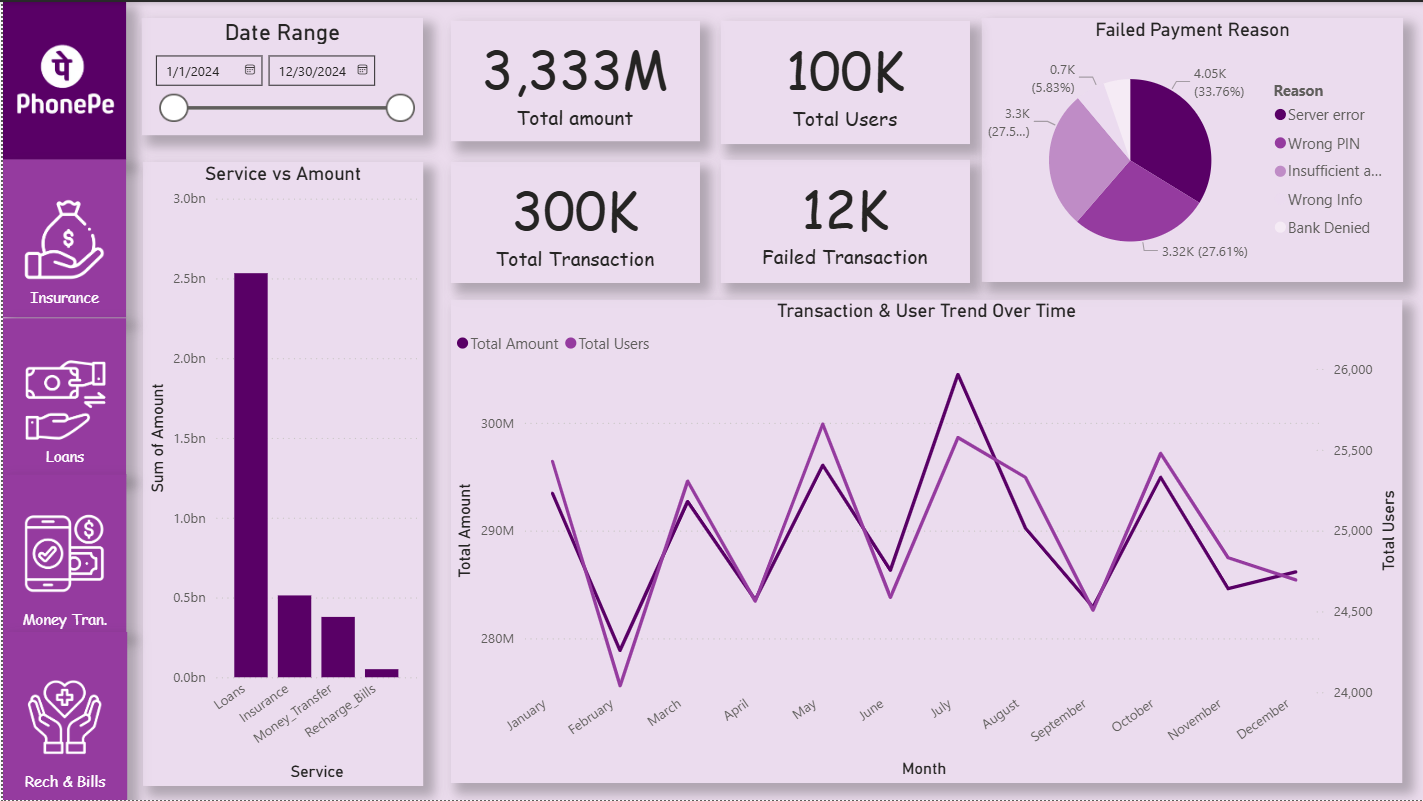

This screenshot's page, from the dashboard's own definition file:
{"tool":"powerbi","page":{"name":"Home Page","canvas":[1280,720],"ordinal":0},"visuals":[{"type":"shape","box":[0,0,111,142.4],"z":0},{"type":"shape","box":[0,142.4,111,142.4],"z":1000},{"type":"shape","box":[0,284.7,111,142.4],"z":2000},{"type":"shape","box":[0,426.1,111.6,142],"z":3000},{"type":"shape","box":[0,567.6,112,152.8],"z":4000},{"type":"image","box":[0,23.2,111.6,97.1],"z":5000},{"type":"image","box":[1.2,168.9,111,88.1],"z":6000},{"type":"image","box":[0,600.8,111,88.1],"z":7000},{"type":"image","box":[1.2,314.9,111,89.3],"z":8000},{"type":"image","box":[0,452.4,111,90.5],"z":9000},{"type":"textbox","box":[0,252.8,111.1,31.5],"z":10000},{"type":"textbox","box":[0,395.4,112,31.5],"z":11000},{"type":"textbox","box":[0,542.1,111.6,36.1],"z":12000},{"type":"textbox","box":[0,688.6,112,31.5],"z":13000},{"type":"slicer","title":"Date Range","fields":{"Values":["All_Transactions.Date"]},"box":[124.9,15.1,253.9,105.7],"z":14000},{"type":"card","title":"Date Range","fields":{"Values":["Sum(All_Transactions.Amount)"]},"box":[403.4,17,224.5,108.8],"z":15000},{"type":"card","title":"Date Range","fields":{"Values":["Count(All_Transactions.Transaction_ID)"]},"box":[403.4,144.2,224.5,108.8],"z":16000},{"type":"card","title":"Date Range","fields":{"Values":["Count(All_Transactions.User_ID)"]},"box":[646.9,17,224.5,110.9],"z":17000},{"type":"card","title":"Date Range","fields":{"Values":["Count(All_Transactions.Transaction_ID)"]},"box":[646.9,141.5,224.5,110.9],"z":18000},{"type":"pieChart","title":"Failed Payment Reason ","fields":{"Category":["All_Transactions.Reason"],"Y":["CountNonNull(All_Transactions.Reason)"]},"box":[882.3,15.1,380.1,237.4],"z":19000},{"type":"lineChart","title":"Transaction & User Trend Over Time","fields":{"Category":["All_Transactions.Date.Variation.Date Hierarchy.Month"],"Y2":["CountNonNull(All_Transactions.User_ID)"],"Y":["Sum(All_Transactions.Amount)"]},"box":[403.5,267.8,858.5,435.9],"z":20000},{"type":"columnChart","title":"Service vs Amount","fields":{"Y":["Sum(All_Transactions.Amount)"],"Category":["All_Transactions.Service"]},"box":[126.2,144.1,252.5,562.6],"z":21000},{"type":"actionButton","box":[0,0,111.1,140],"z":22000},{"type":"actionButton","box":[0,284,111.1,140],"z":23000},{"type":"actionButton","box":[0,428.3,111.6,139.8],"z":24000},{"type":"actionButton","box":[0,564,111.1,156.4],"z":25000},{"type":"actionButton","box":[0,143.1,111.3,140.6],"z":26000}]}

Visuals, with their boxes in screenshot pixels (x1, y1, x2, y2), scaled from the page's 1280x720 canvas onto the 1423x801 screenshot:
shape: x1=0, y1=0, x2=123, y2=158
shape: x1=0, y1=158, x2=123, y2=317
shape: x1=0, y1=317, x2=123, y2=475
shape: x1=0, y1=474, x2=124, y2=632
shape: x1=0, y1=631, x2=125, y2=800
image: x1=0, y1=26, x2=124, y2=134
image: x1=1, y1=188, x2=125, y2=286
image: x1=0, y1=668, x2=123, y2=766
image: x1=1, y1=350, x2=125, y2=450
image: x1=0, y1=503, x2=123, y2=604
textbox: x1=0, y1=281, x2=124, y2=316
textbox: x1=0, y1=440, x2=125, y2=475
textbox: x1=0, y1=603, x2=124, y2=643
textbox: x1=0, y1=766, x2=125, y2=800
"Date Range" slicer: x1=139, y1=17, x2=421, y2=134
"Date Range" card: x1=448, y1=19, x2=698, y2=140
"Date Range" card: x1=448, y1=160, x2=698, y2=281
"Date Range" card: x1=719, y1=19, x2=969, y2=142
"Date Range" card: x1=719, y1=157, x2=969, y2=281
"Failed Payment Reason " pieChart: x1=981, y1=17, x2=1403, y2=281
"Transaction & User Trend Over Time" lineChart: x1=449, y1=298, x2=1403, y2=783
"Service vs Amount" columnChart: x1=140, y1=160, x2=421, y2=786
actionButton: x1=0, y1=0, x2=124, y2=156
actionButton: x1=0, y1=316, x2=124, y2=472
actionButton: x1=0, y1=476, x2=124, y2=632
actionButton: x1=0, y1=627, x2=124, y2=800
actionButton: x1=0, y1=159, x2=124, y2=316
